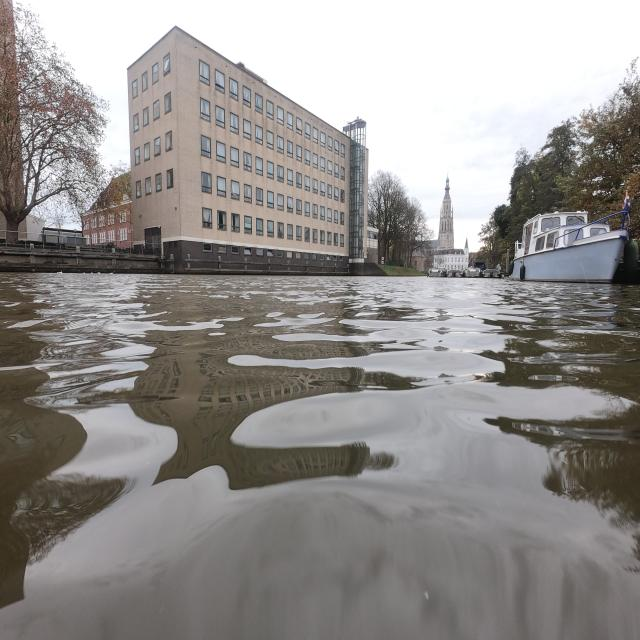boat: (509, 202, 640, 284)
sky: (10, 0, 640, 245)
wall: (2, 243, 380, 278), (0, 243, 160, 275)
water: (0, 274, 640, 640)
